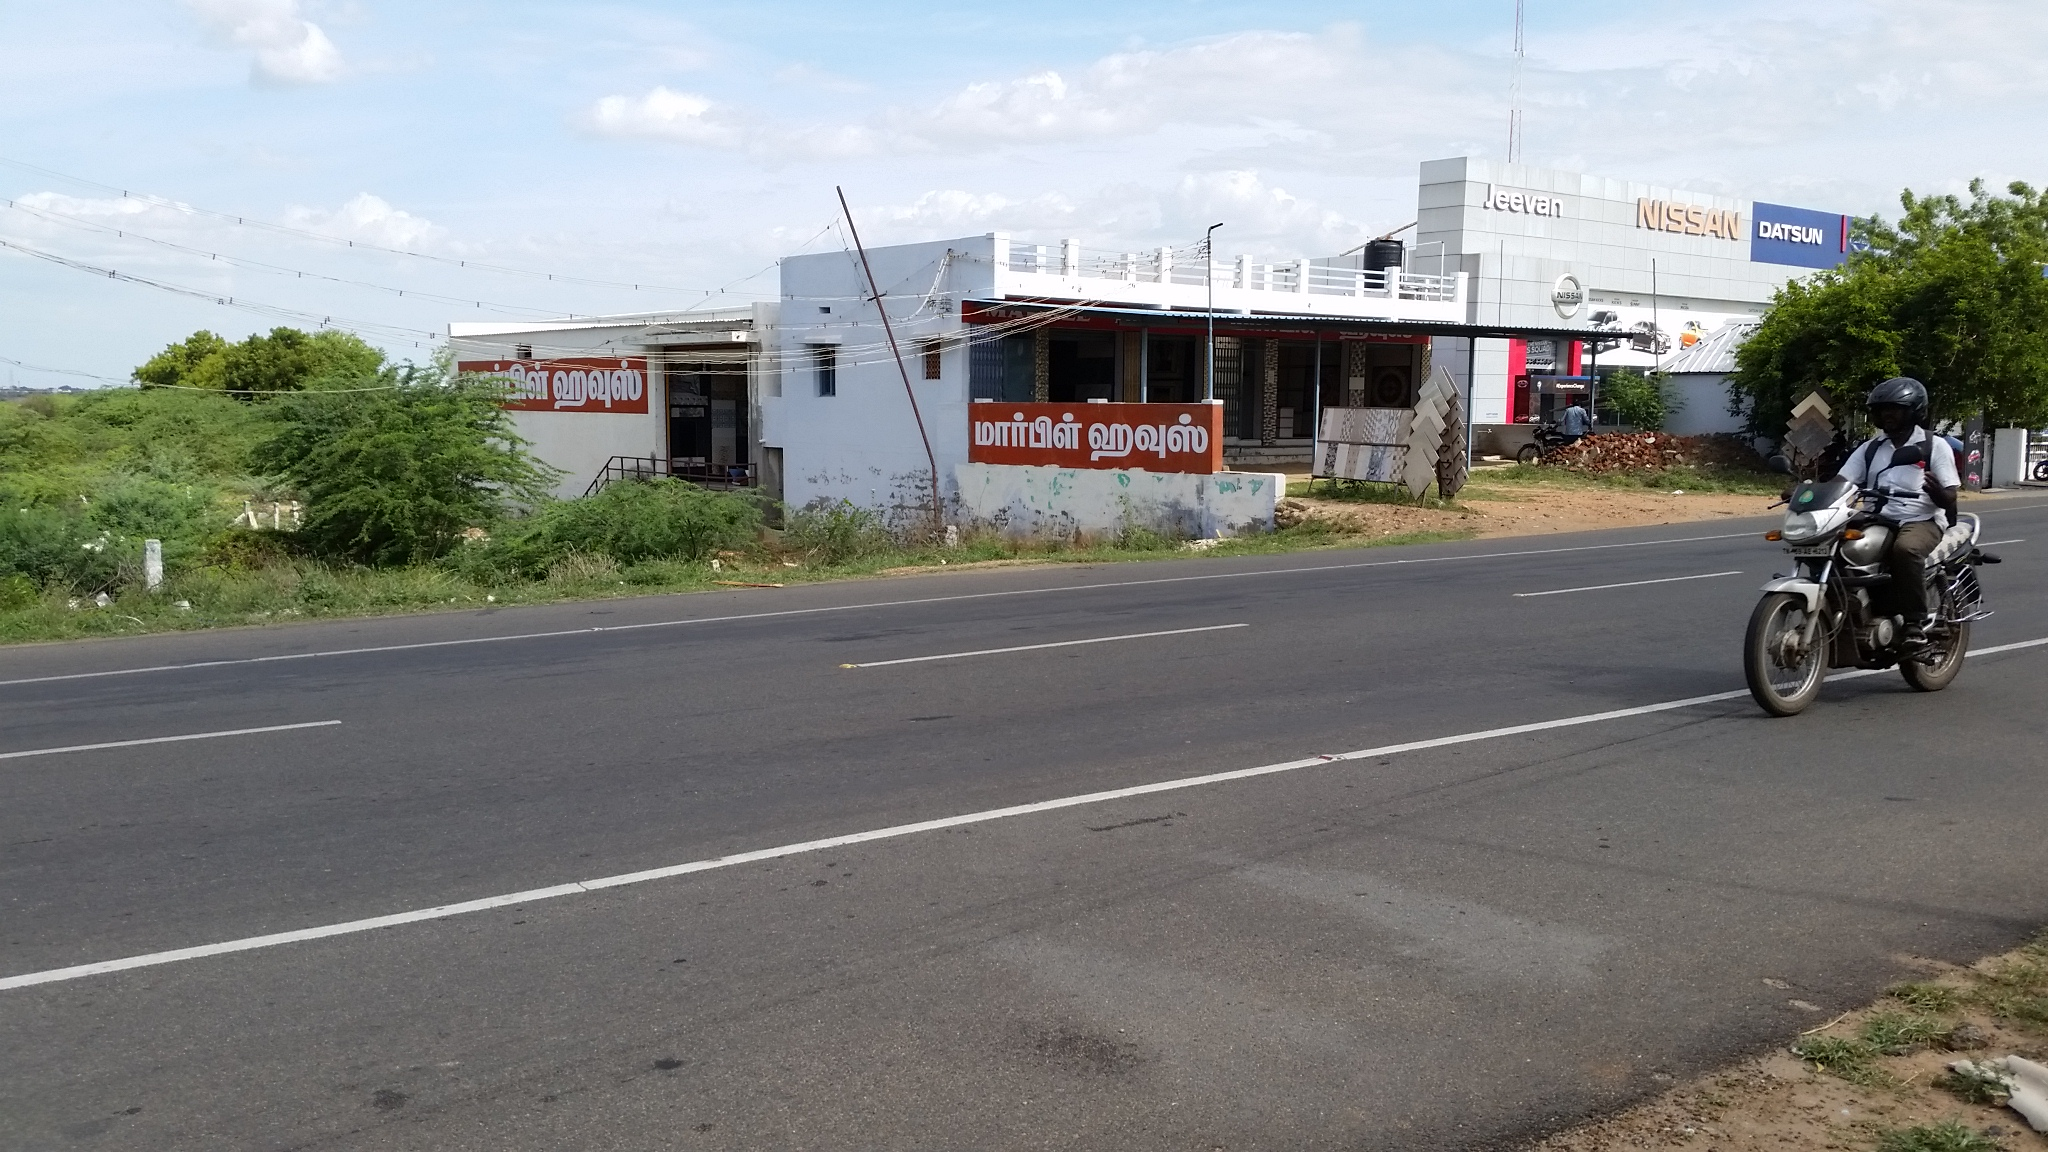biker: (1727, 320, 2019, 755)
helmet: (1849, 365, 1952, 455)
